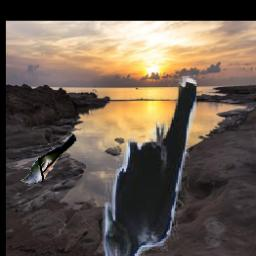Crow: (103, 73, 196, 256)
Cuckoo: (21, 134, 77, 187)
